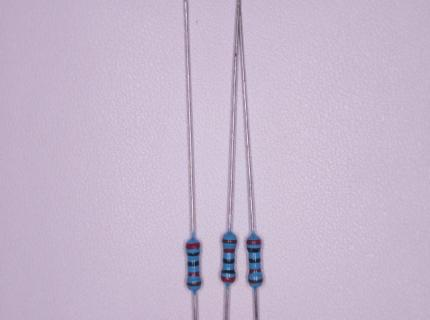Black band: (221, 269, 236, 274), (187, 261, 199, 267), (247, 248, 261, 253), (187, 252, 200, 257), (223, 259, 234, 264), (249, 258, 260, 263)
Brown band: (248, 278, 263, 284), (187, 281, 201, 287), (222, 239, 237, 244)
Red band: (246, 239, 262, 246), (221, 276, 236, 283), (186, 242, 200, 249), (249, 268, 262, 274), (188, 271, 200, 277), (223, 248, 235, 253)
